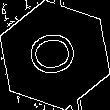O_E: (25, 29, 85, 81)
